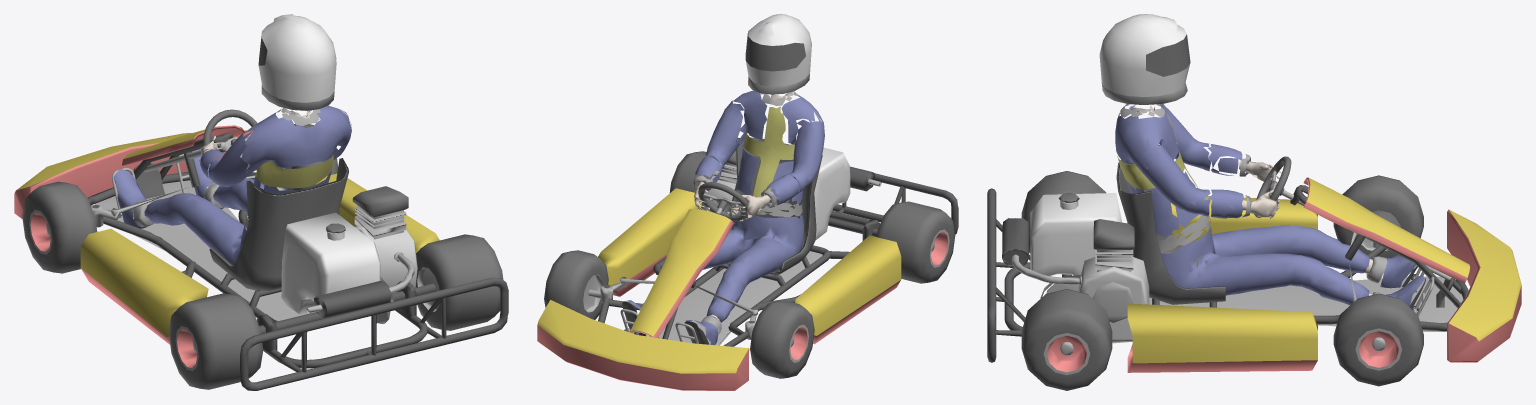
Rendered from kart.glb.
The picture shows the model from 3 angles, left to right: view 1: azimuth 30°, elevation 25°; view 2: azimuth 150°, elevation 25°; view 3: azimuth 270°, elevation 25°; orthographic projection. The views are drawn at different scales.
Visible parts, largest first — view 1: body, chassis, engine, driver, wheel_rl, helmet, wheel_rr, wheel_fl, arm_l, steer_rim; view 2: body, driver, chassis, helmet, wheel_rl, wheel_fl, engine, wheel_fr, arm_l, arm_r, steer_rim, wheel_rr (+3 smaller); view 3: body, driver, engine, chassis, wheel_rr, helmet, wheel_fr, wheel_fl, arm_r, wheel_rl, arm_l, hand_r (+4 smaller).
Boxes of the visible parts, x1,y1,x2,y2 form: body: (14,125,439,344); chassis: (87,132,508,390); engine: (281,186,417,318); driver: (113,105,351,265); wheel_rl: (168,293,263,389); helmet: (258,14,336,114); wheel_rr: (415,234,503,330); wheel_fl: (22,181,97,273); arm_l: (208,129,265,211); steer_rim: (203,109,257,172); body: (537,137,901,390); driver: (622,90,824,345); chassis: (588,173,958,346); helmet: (745,14,811,96); wheel_rl: (876,201,955,283); wheel_fl: (750,300,814,378); engine: (703,137,881,239); wheel_fr: (544,250,608,319); arm_l: (788,112,824,203); arm_r: (705,100,743,169); steer_rim: (698,182,748,221); wheel_rr: (669,151,712,209); body: (1116,159,1521,372); driver: (1115,104,1425,309); engine: (1002,193,1149,343); chassis: (987,185,1468,362); wheel_rr: (1021,289,1112,390); helmet: (1099,14,1190,112); wheel_fr: (1333,293,1423,386); wheel_fl: (1333,175,1423,259); arm_r: (1142,138,1210,236); wheel_rl: (1021,171,1106,253); arm_l: (1158,104,1210,171); hand_r: (1175,189,1279,237).
Bounding box in the file's own units: 1.15 × 1.11 × 1.77.
